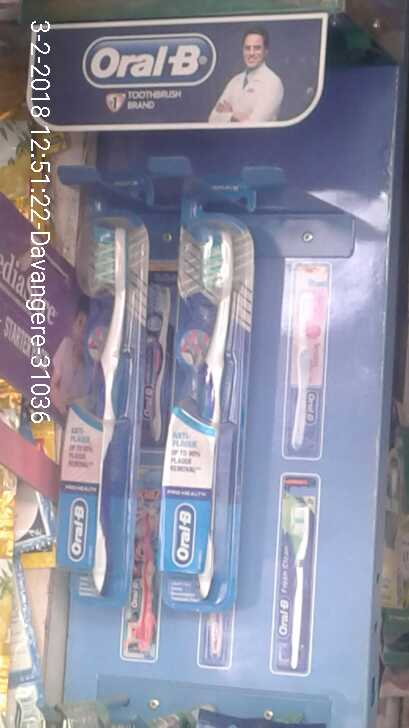oralb: (160, 202, 249, 617), (62, 203, 144, 604)
